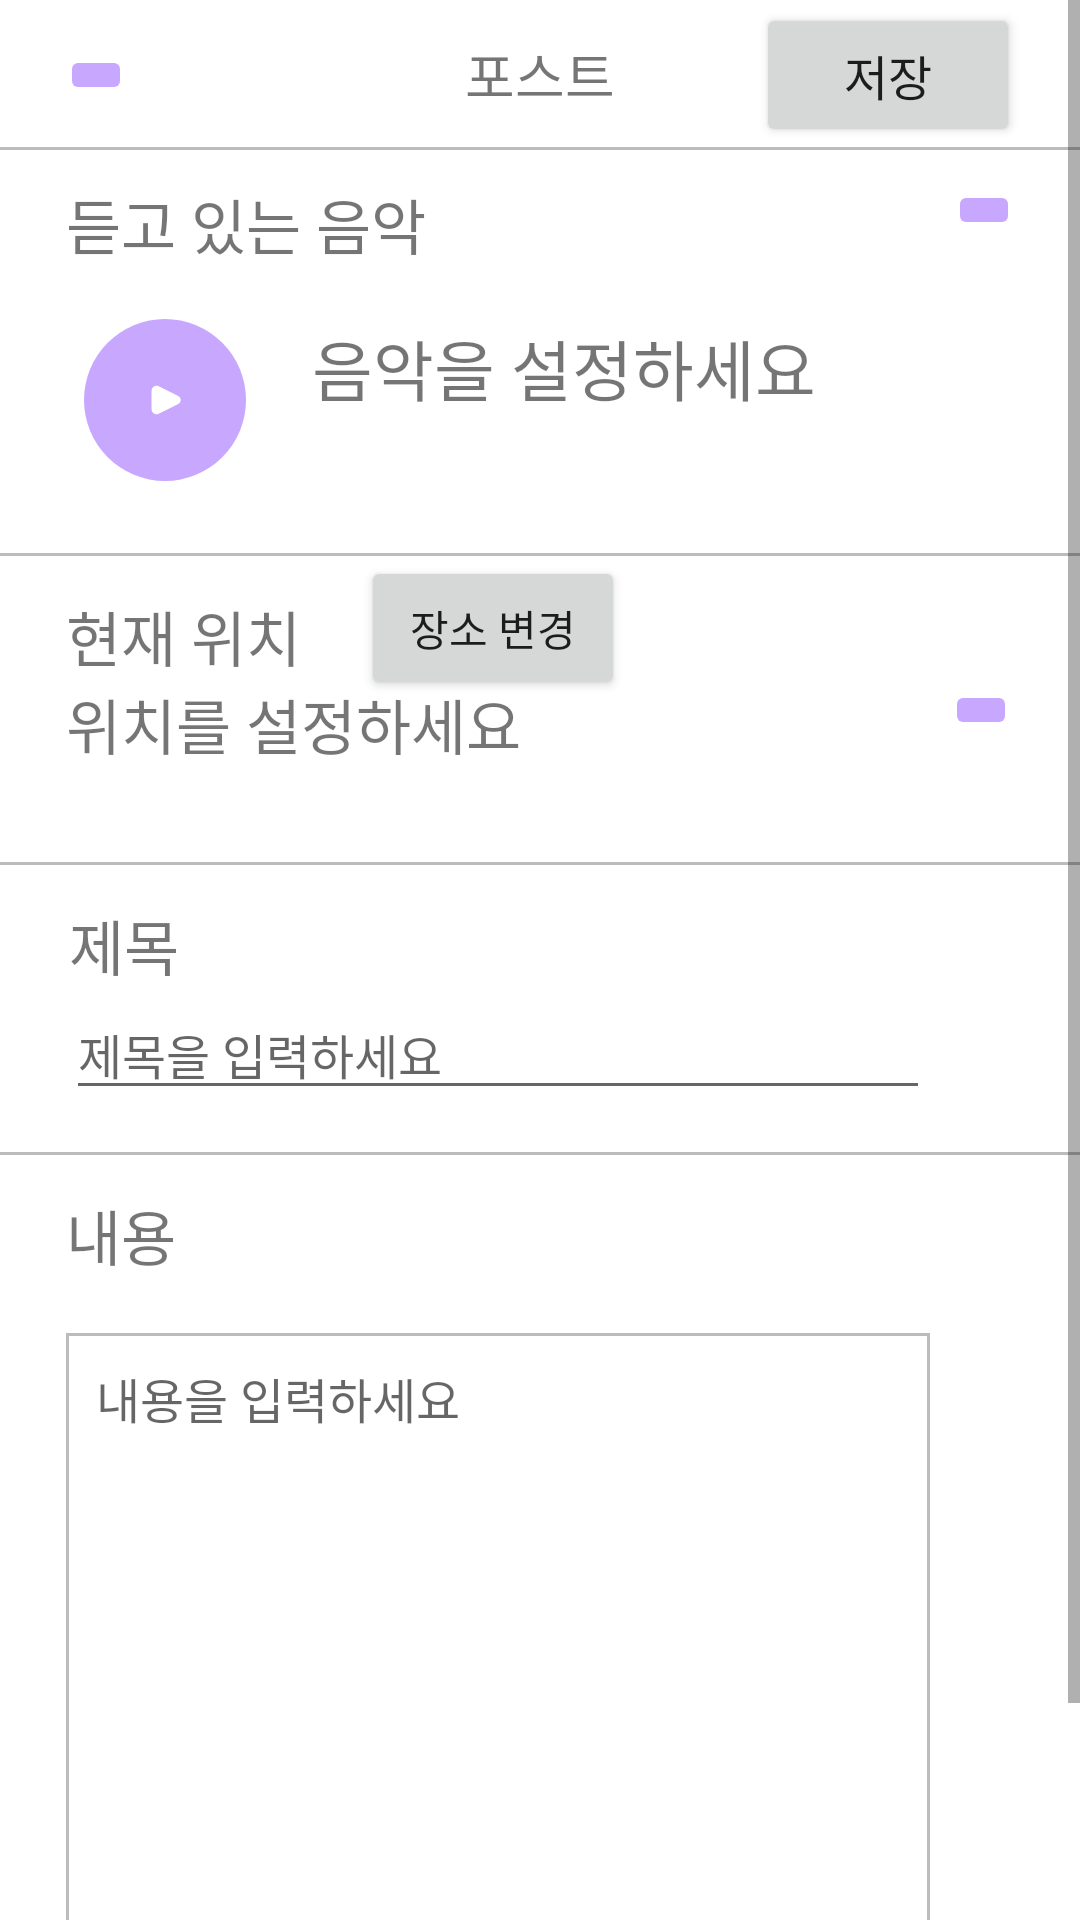

Where to tap for icons on this 1080 × 1920 app screen, as (x,y):
play: (165,400)
